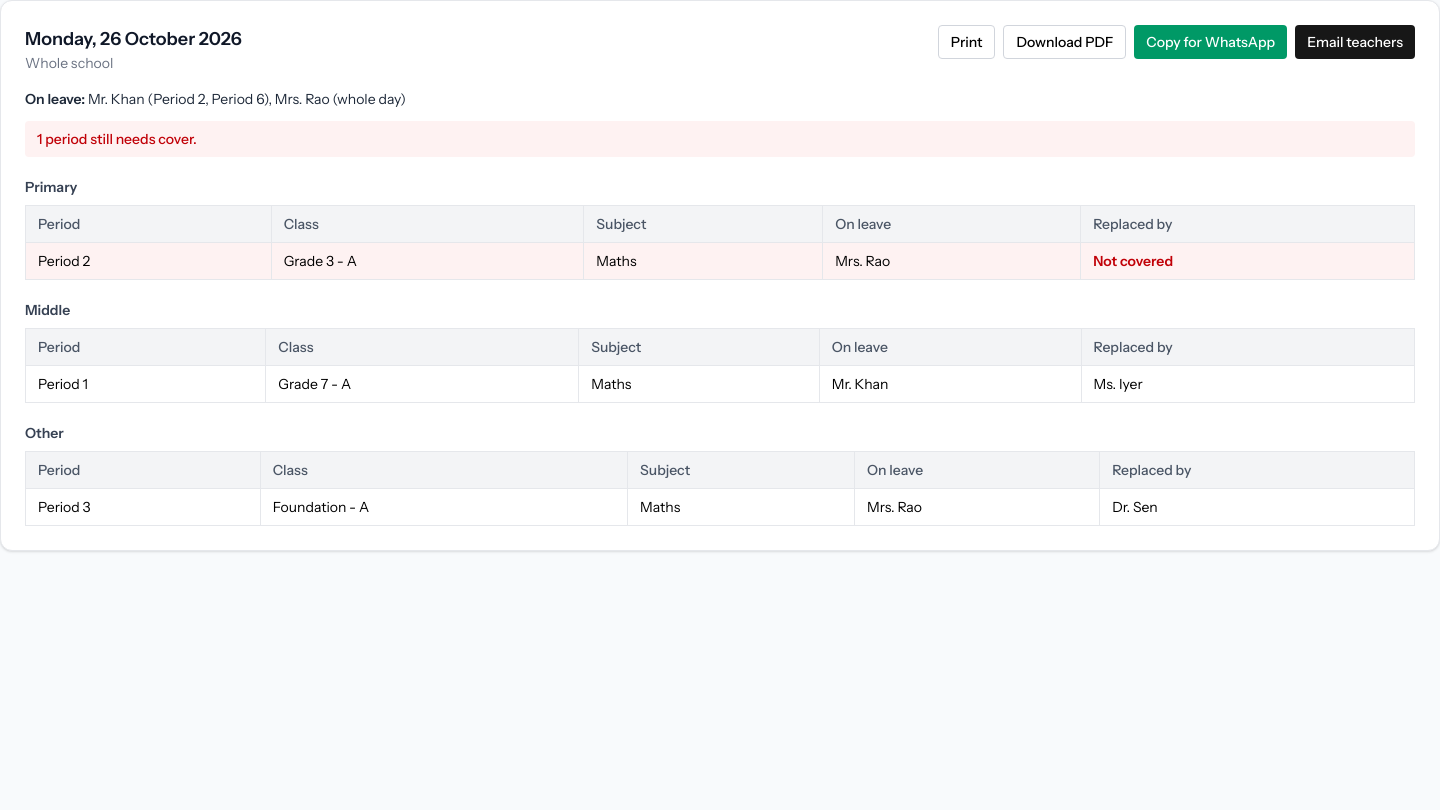
emailing the cover › emails the covering teachers, optionally everyone, and says who had no email
Click the button "Email teachers".
click(1355, 42)  # box [1295,25,1415,59]
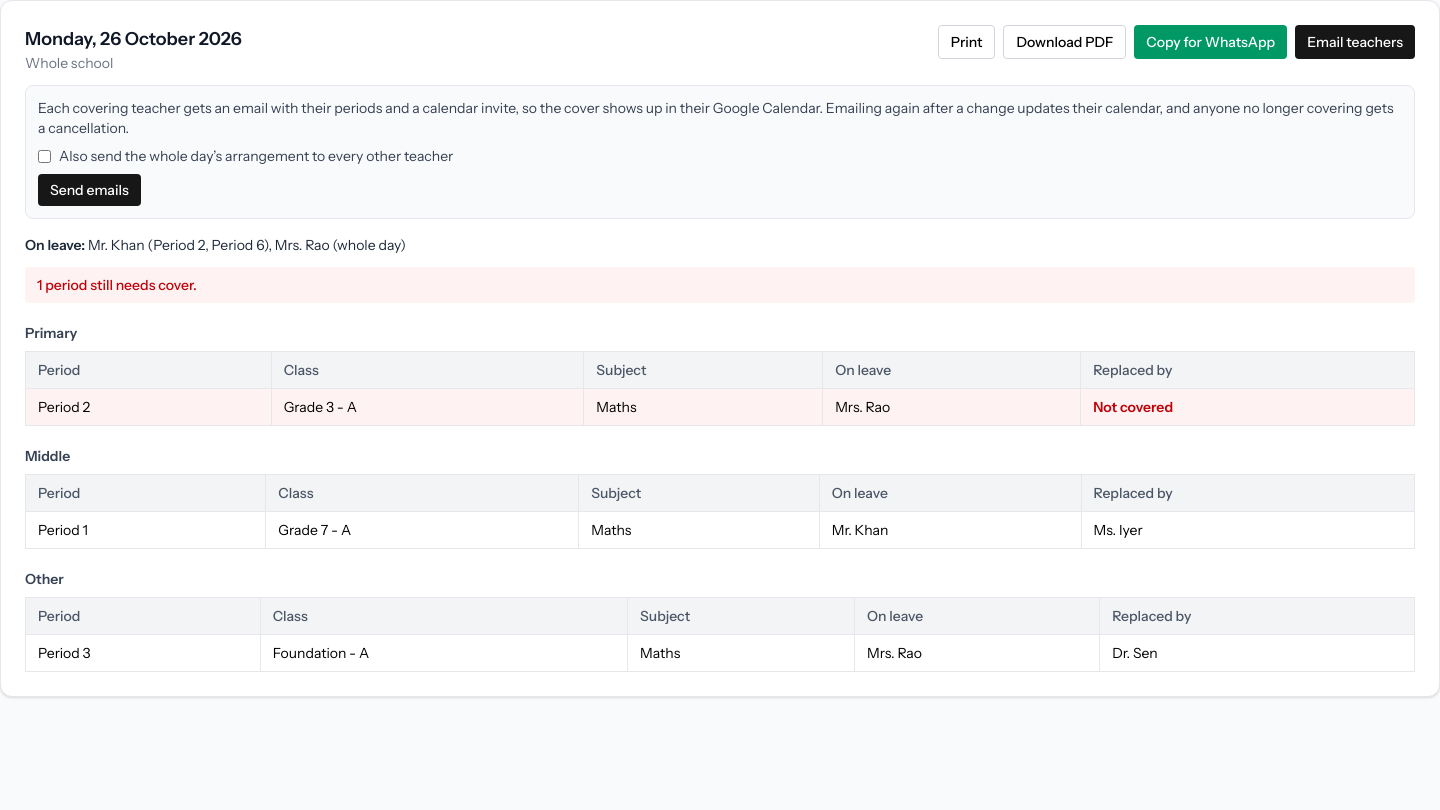
Expected: the text "shows up in their Google Calendar" is shown, [38,99,1394,137]
Click the checkbox labelled "Also send the whole day’s arrangement to every other teacher".
click(44, 156)  # box [38,150,51,162]
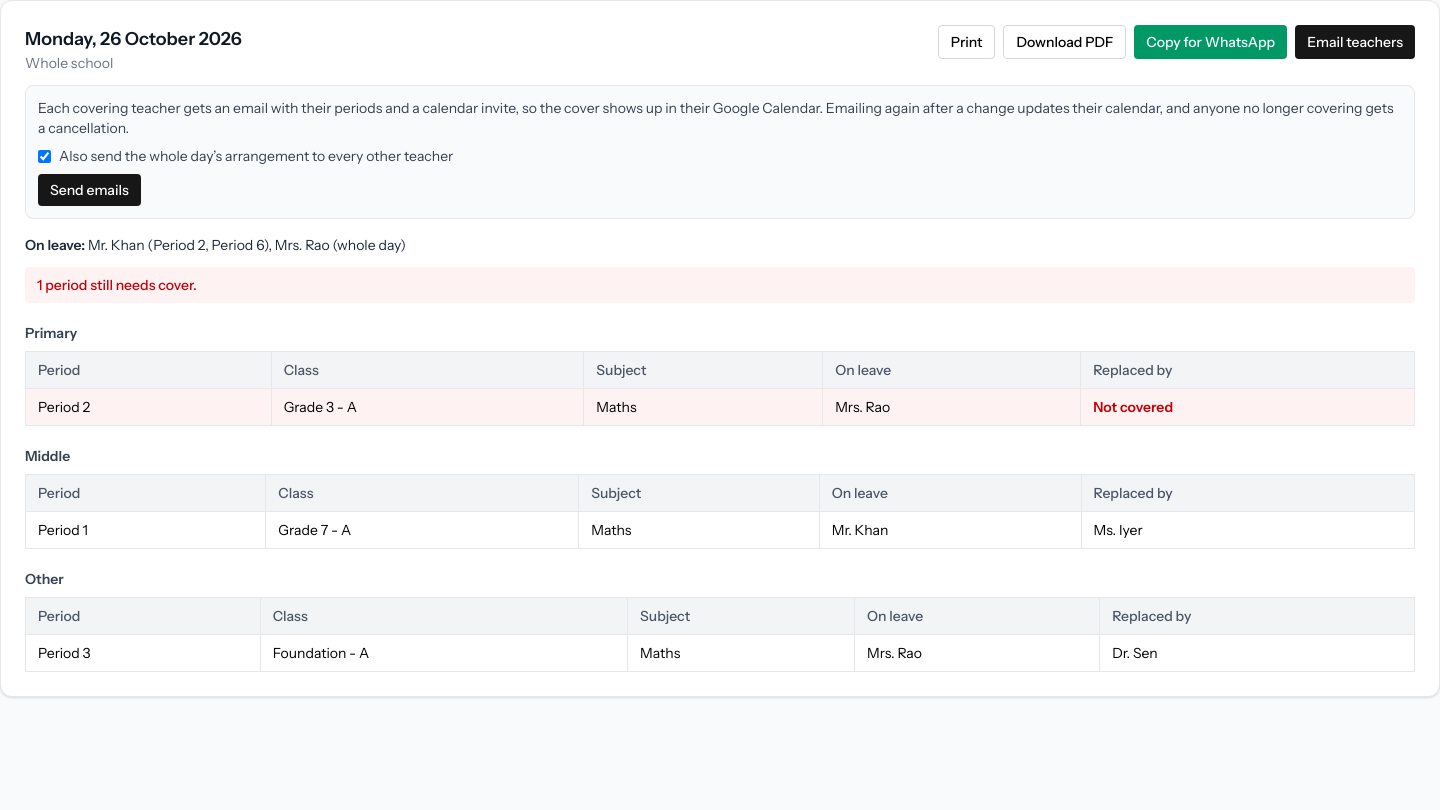
Click the button "Send emails".
click(89, 190)  # box [38,174,141,206]
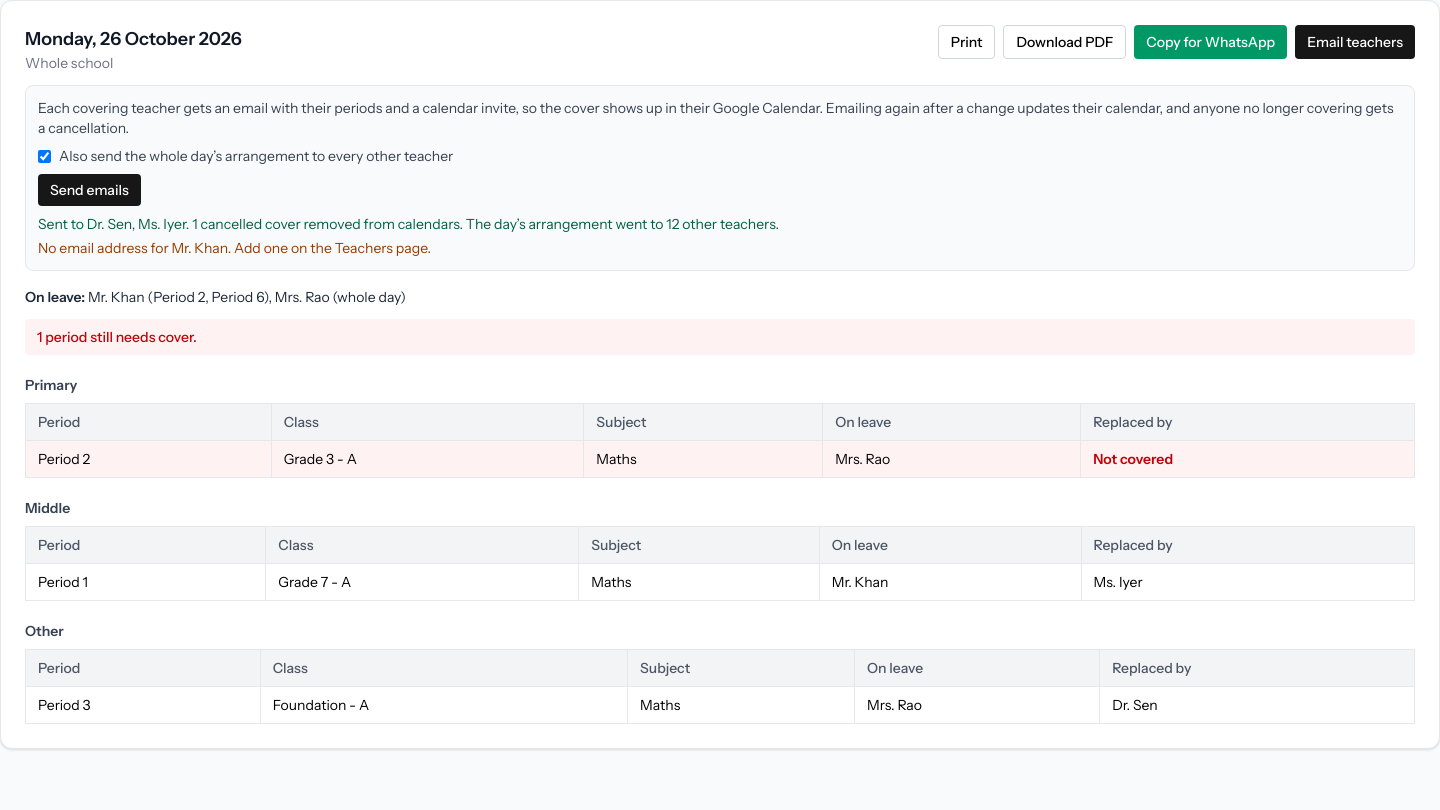
Expected: the message shows "Sent to Dr. Sen, Ms. Iyer.", [38,215,189,233]
Expected: the message shows "1 cancelled cover removed from calendars.", [189,215,463,233]
Expected: the message shows "went to 12 other teachers", [463,215,779,233]
